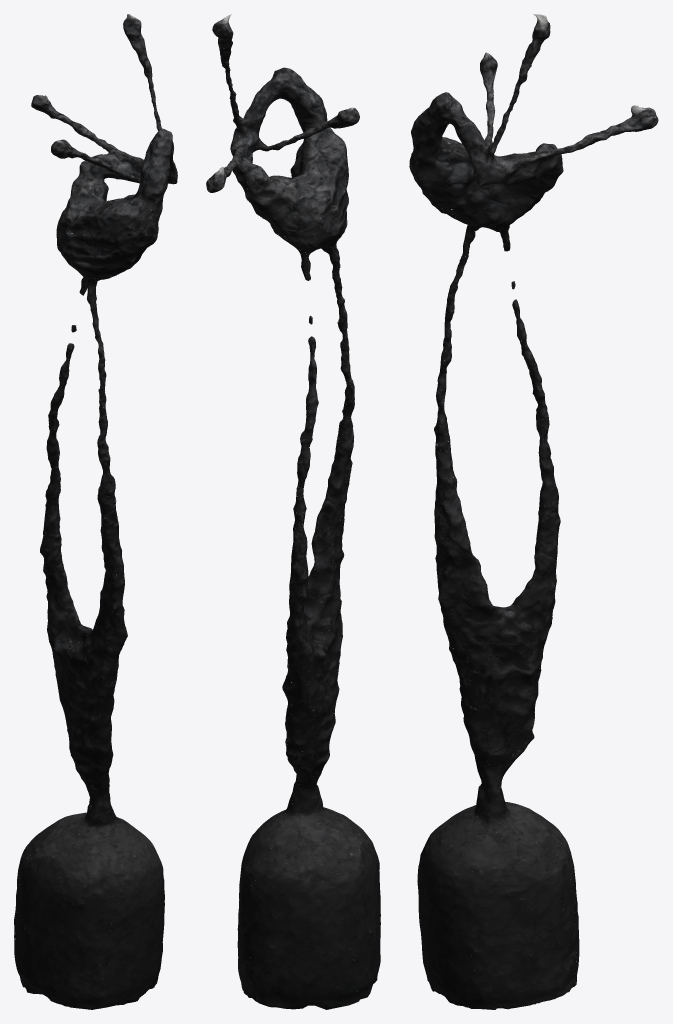
Rendered from life.glb.
3 views of the same model, side by side, from view 1: azimuth 30°, elevation 25°; view 2: azimuth 150°, elevation 25°; view 3: azimuth 270°, elevation 25° (orthographic). The views are drawn at different scales.
Parts seen in each view (by area): view 1: Mesh_0_Part_0; view 2: Mesh_0_Part_0; view 3: Mesh_0_Part_0.
Boxes of the visible parts, bbox=[...] form: Mesh_0_Part_0: bbox=[14, 14, 177, 1009]; Mesh_0_Part_0: bbox=[206, 14, 380, 1009]; Mesh_0_Part_0: bbox=[409, 14, 658, 1009].
Bounding box in the file's own units: 2.4 × 15.2 × 3.43.
Materials: 1 (1 with a texture image).
